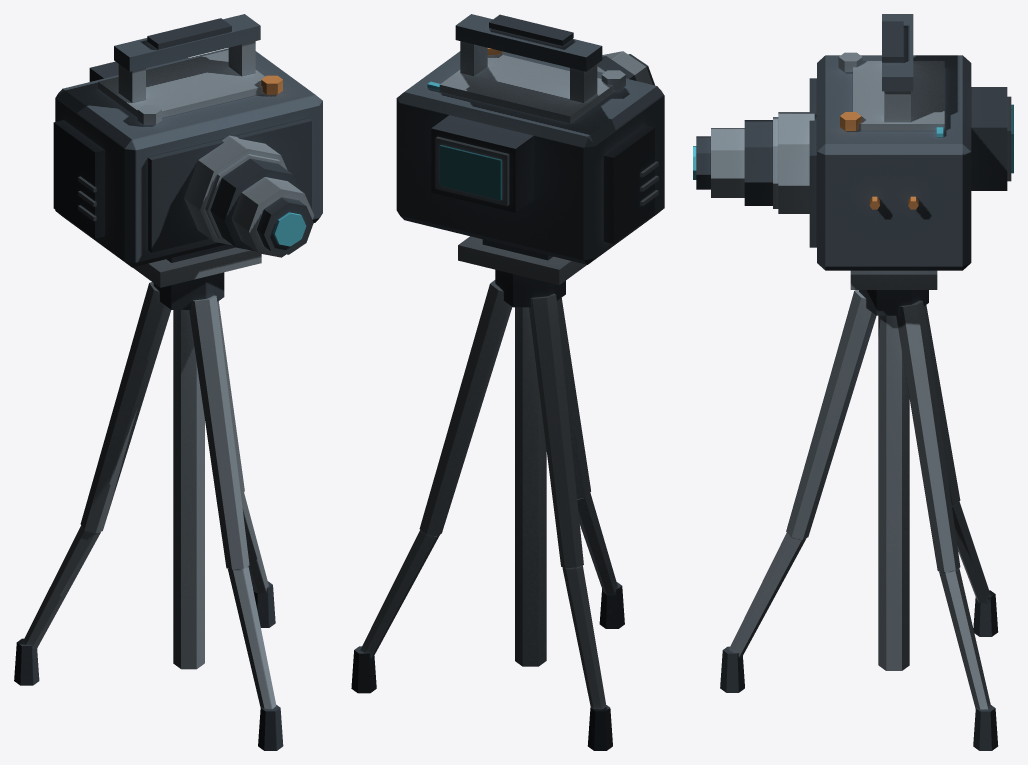
Rendered from 0-20261016-1900-ev032-r06-stage-camerarig_baked.glb.
The picture shows the model from 3 angles, left to right: view 1: azimuth 30°, elevation 25°; view 2: azimuth 150°, elevation 25°; view 3: azimuth 270°, elevation 25°; orthographic projection.
Parts seen in each view (by area): view 1: SW_Stage_CameraRig; view 2: SW_Stage_CameraRig; view 3: SW_Stage_CameraRig.
Part boxes in pixels (bbox=[...]): SW_Stage_CameraRig: bbox=[14, 14, 322, 750]; SW_Stage_CameraRig: bbox=[351, 14, 664, 750]; SW_Stage_CameraRig: bbox=[693, 14, 1013, 750].
Bounding box in the file's own units: 1.21 × 2.97 × 1.33.
Materials: 1 (1 with a texture image).
